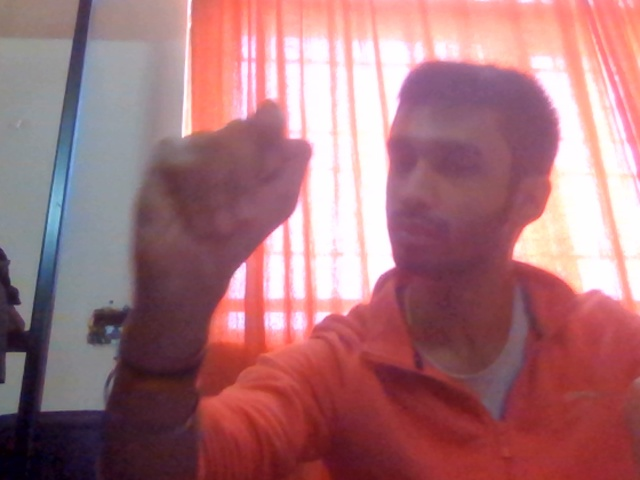T: (116, 63, 330, 331)
